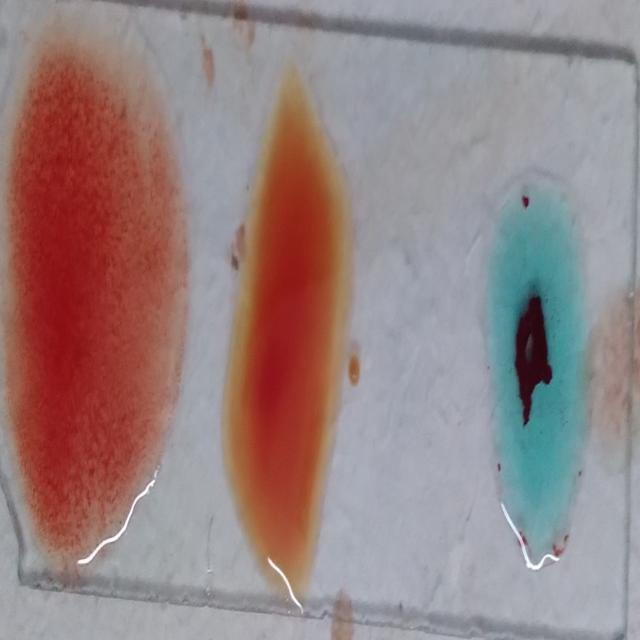A: (480, 175, 598, 580)
D: (14, 46, 171, 562)
